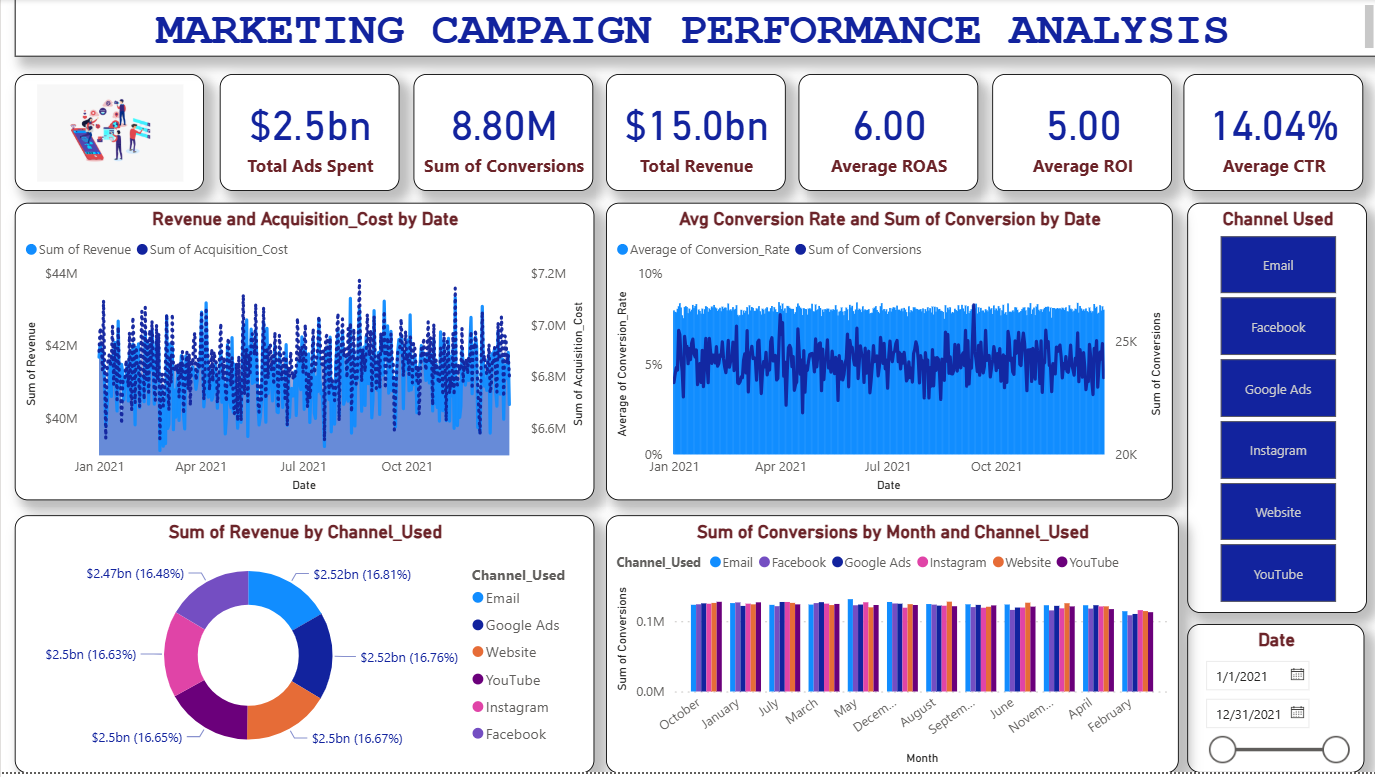

The page's visual inventory and layout, read from the dashboard file:
{"tool":"powerbi","page":{"name":"Campaign Performance Analysis","canvas":[1280,720],"ordinal":0},"visuals":[{"type":"textbox","box":[12.3,0,1267.9,53.5],"z":0},{"type":"image","box":[12.3,70,175.6,108.4],"z":1000},{"type":"card","fields":{"Values":["Sum(marketing_campaign_cleaned.Acquisition_Cost)"]},"box":[203.1,70,167.4,108.4],"z":2000},{"type":"card","fields":{"Values":["Sum(marketing_campaign_cleaned.Conversions)"]},"box":[384.2,70,167.4,108.4],"z":3000},{"type":"card","fields":{"Values":["Sum(marketing_campaign_cleaned.Revenue)"]},"box":[562.6,70,167.4,108.4],"z":4000},{"type":"card","fields":{"Values":["Avg(marketing_campaign_cleaned.ROAS)"]},"box":[742.4,70,167.4,108.4],"z":5000},{"type":"card","fields":{"Values":["Avg(marketing_campaign_cleaned.ROI)"]},"box":[922.1,70,167.4,108.4],"z":6000},{"type":"card","fields":{"Values":["Avg(marketing_campaign_cleaned.Click_Through_Rate)"]},"box":[1100.5,70,167.4,108.4],"z":7000},{"type":"areaChart","title":"Revenue and Acquisition_Cost by Date","fields":{"Category":["DateTable.Date"],"Y":["Sum(marketing_campaign_cleaned.Revenue)"],"Y2":["Sum(marketing_campaign_cleaned.Acquisition_Cost)"]},"box":[12.3,189.4,539.3,277.2],"z":8000},{"type":"slicer","title":"Channel Used","fields":{"Values":["marketing_campaign_cleaned.Channel_Used"]},"box":[1103.3,189.4,167.4,381.5],"z":9000},{"type":"slicer","title":"Date","fields":{"Values":["DateTable.Date"]},"box":[1103.3,581.8,164.7,138.6],"z":10000},{"type":"lineStackedColumnComboChart","title":"Avg Conversion Rate and Sum of Conversion by Date","fields":{"Category":["DateTable.Date"],"Y2":["Sum(marketing_campaign_cleaned.Conversions)"],"Y":["Avg(marketing_campaign_cleaned.Conversion_Rate)"]},"box":[562.6,189.4,526.9,277.2],"z":11000},{"type":"donutChart","fields":{"Category":["marketing_campaign_cleaned.Channel_Used"],"Y":["Sum(marketing_campaign_cleaned.Revenue)"]},"box":[12.3,480.3,539.3,240.1],"z":12000},{"type":"clusteredColumnChart","fields":{"Y":["Sum(marketing_campaign_cleaned.Conversions)"],"Category":["DateTable.Month"],"Series":["marketing_campaign_cleaned.Channel_Used"]},"box":[562.6,480.3,532.4,240.1],"z":13000}]}

Visuals, with their boxes in screenshot pixels (x1, y1, x2, y2), scaled from the page's 1280x720 canvas onto the 1375x777 screenshot:
textbox: <box>13,0,1374,58</box>
image: <box>13,76,202,193</box>
card - Sum(marketing_campaign_cleaned.Acquisition_Cost): <box>218,76,398,193</box>
card - Sum(marketing_campaign_cleaned.Conversions): <box>413,76,593,193</box>
card - Sum(marketing_campaign_cleaned.Revenue): <box>604,76,784,193</box>
card - Avg(marketing_campaign_cleaned.ROAS): <box>798,76,977,193</box>
card - Avg(marketing_campaign_cleaned.ROI): <box>991,76,1170,193</box>
card - Avg(marketing_campaign_cleaned.Click_Through_Rate): <box>1182,76,1362,193</box>
"Revenue and Acquisition_Cost by Date" areaChart: <box>13,204,593,504</box>
"Channel Used" slicer: <box>1185,204,1365,616</box>
"Date" slicer: <box>1185,628,1362,776</box>
"Avg Conversion Rate and Sum of Conversion by Date" lineStackedColumnComboChart: <box>604,204,1170,504</box>
donutChart - marketing_campaign_cleaned.Channel_Used x Sum(marketing_campaign_cleaned.Revenue): <box>13,518,593,776</box>
clusteredColumnChart - Sum(marketing_campaign_cleaned.Conversions) x DateTable.Month: <box>604,518,1176,776</box>
